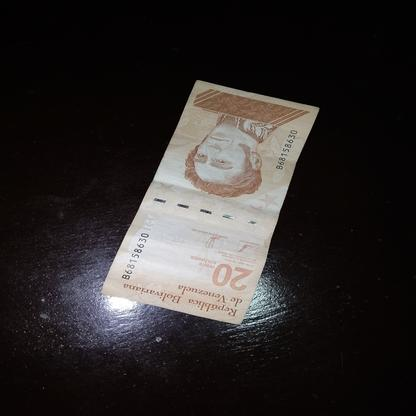twenty-front-vef: (99, 78, 319, 325)
